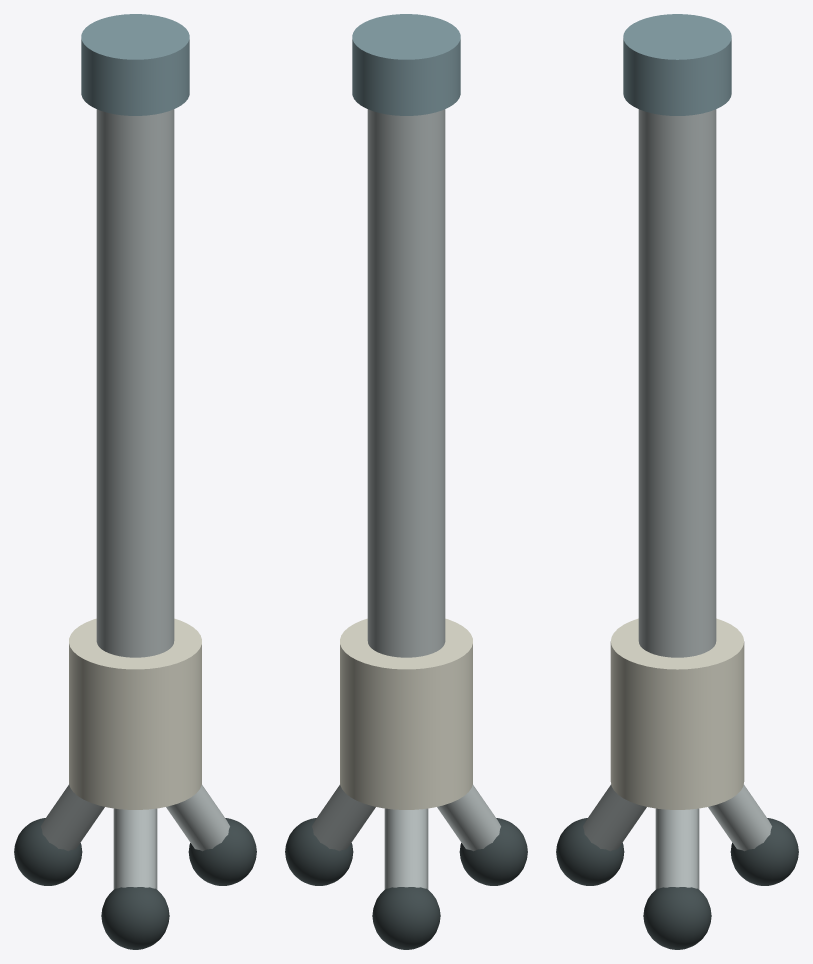
The model's file is abandoned-tidal-model-testing-hall-acoustic-velocity-h-b7e32ec6__32351.glb.
3 renders of one model, left to right at view 1: azimuth 30°, elevation 25°; view 2: azimuth 150°, elevation 25°; view 3: azimuth 270°, elevation 25°, orthographic.
Parts seen in each view (by area): view 1: acoustic-velocity-head; view 2: acoustic-velocity-head; view 3: acoustic-velocity-head.
Boxes of the visible parts, <box> form: acoustic-velocity-head: <box>14,14,256,949</box>; acoustic-velocity-head: <box>285,14,527,949</box>; acoustic-velocity-head: <box>556,14,798,949</box>.
Size of the model in its own units: 0.1415 by 0.617 by 0.1566.
